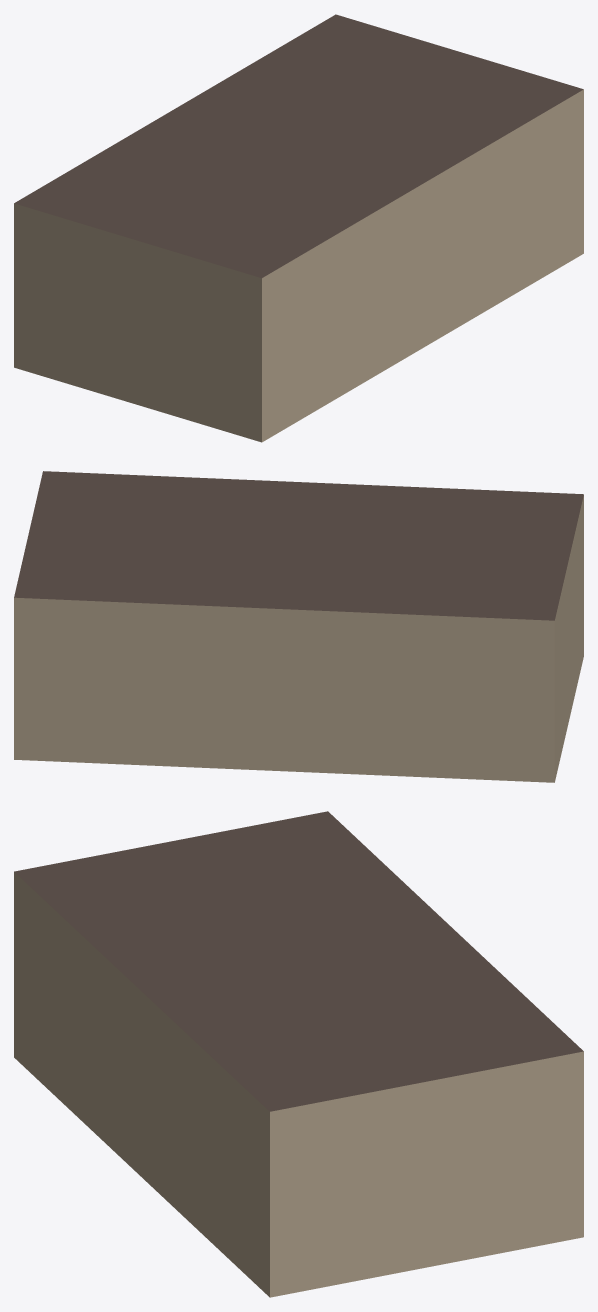
The picture shows the model from 3 angles, top to bottom: view 1: azimuth 30°, elevation 25°; view 2: azimuth 150°, elevation 25°; view 3: azimuth 270°, elevation 25°; orthographic projection. The views are drawn at different scales.
Visible parts, largest first — view 1: HP-w373833592; view 2: HP-w373833592; view 3: HP-w373833592.
Part boxes in pixels (bbox=[...]): HP-w373833592: bbox=[14, 14, 583, 442]; HP-w373833592: bbox=[14, 471, 583, 782]; HP-w373833592: bbox=[14, 811, 583, 1297].
Size of the model in its own units: 31.21 by 9 by 25.01.
